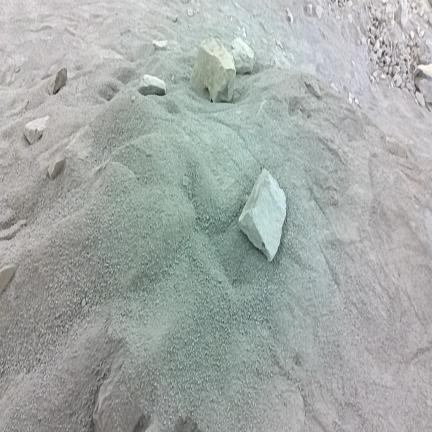Rock: (239, 169, 286, 261), (191, 39, 236, 102), (232, 38, 254, 74), (25, 116, 49, 144), (414, 64, 431, 103), (47, 67, 68, 95), (139, 75, 166, 95), (48, 156, 65, 179), (395, 0, 408, 28), (415, 90, 425, 108), (153, 40, 168, 50), (394, 74, 402, 87), (287, 9, 293, 23), (370, 52, 377, 63), (316, 6, 322, 18), (384, 33, 390, 45), (373, 40, 379, 51), (331, 83, 338, 92), (393, 65, 400, 73), (307, 4, 312, 15), (391, 53, 396, 64), (377, 48, 382, 58), (407, 82, 413, 90), (376, 10, 381, 19), (385, 56, 390, 64), (383, 66, 388, 74), (348, 14, 352, 23), (188, 9, 193, 16), (382, 45, 387, 52), (410, 31, 415, 38), (420, 31, 424, 38), (348, 0, 352, 7), (381, 74, 386, 79), (373, 71, 377, 77), (355, 98, 359, 104)
